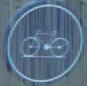bike lane: (4, 2, 79, 76)
